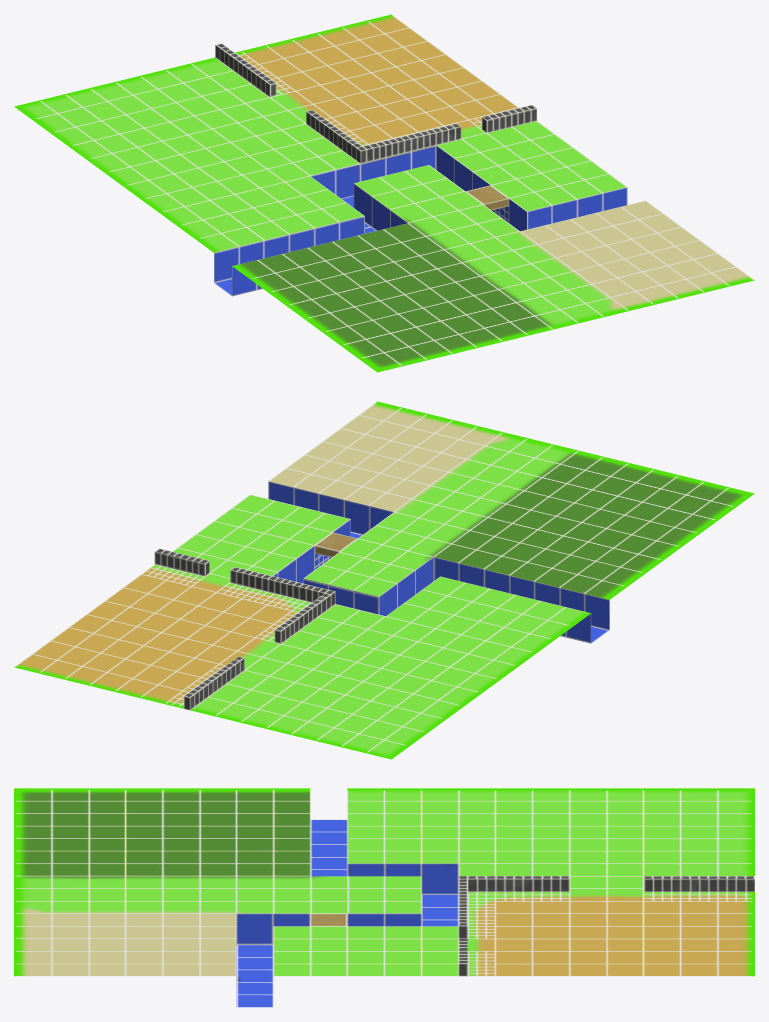
Rendered from stageMesh.FBX.
3 views of the same model, one above another, from view 1: azimuth 30°, elevation 25°; view 2: azimuth 150°, elevation 25°; view 3: azimuth 270°, elevation 25° (orthographic).
Visible parts, largest first — view 1: stage; view 2: stage; view 3: stage.
Boxes of the visible parts, bbox=[...] form: stage: bbox=[14, 14, 754, 372]; stage: bbox=[14, 401, 754, 759]; stage: bbox=[14, 788, 754, 1007].
Size of the model in its own units: 150 by 16.36 by 250.
Materials: 1 (1 with a texture image).
